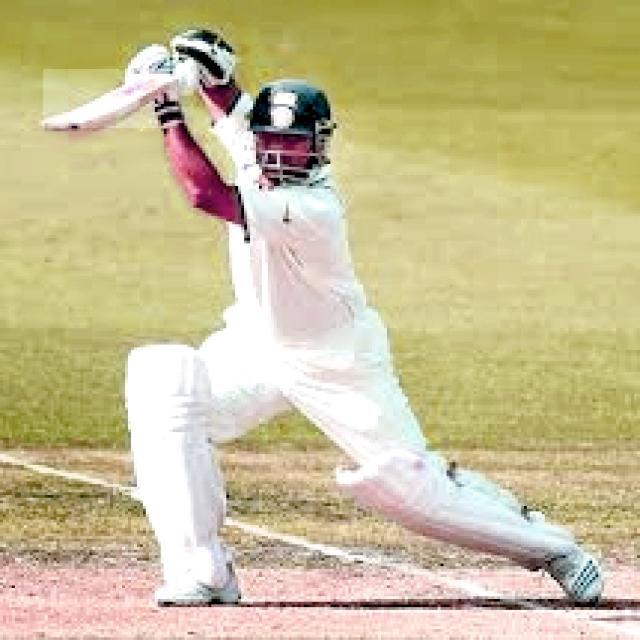bat: (45, 68, 175, 133)
toe: (39, 118, 91, 133)
